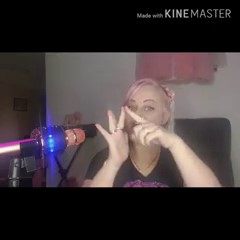I: (93, 98, 171, 163)
